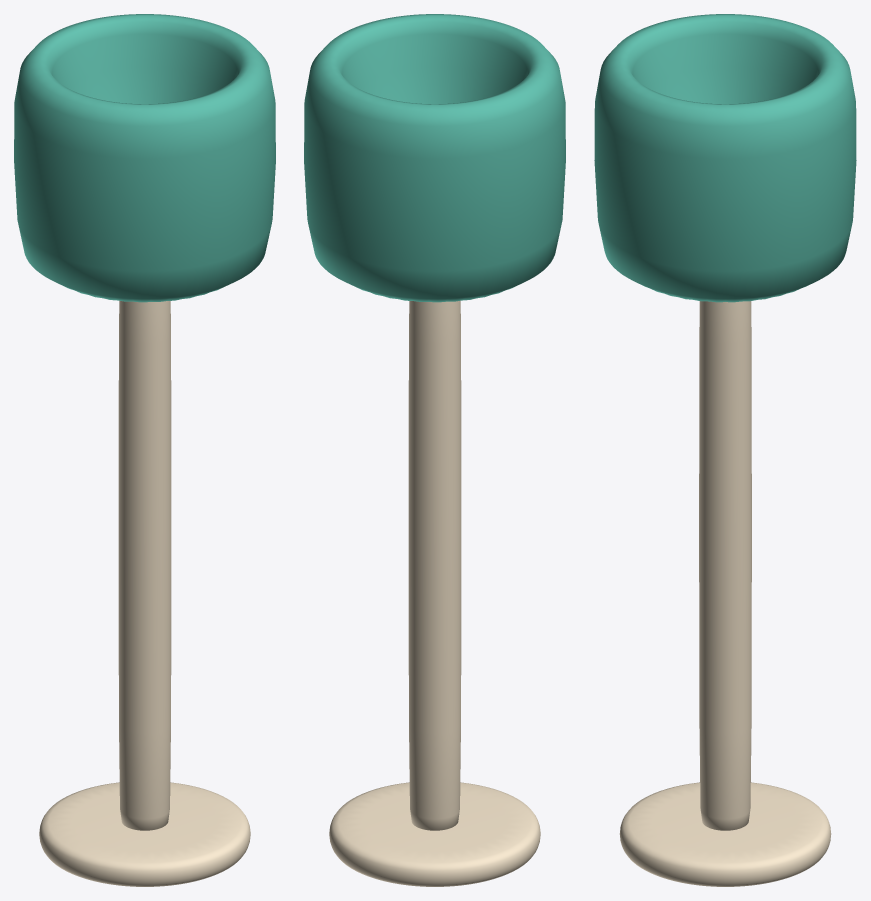
Rendered from floor_lamp_a.glb.
The picture shows the model from 3 angles, left to right: view 1: azimuth 30°, elevation 25°; view 2: azimuth 150°, elevation 25°; view 3: azimuth 270°, elevation 25°; orthographic projection.
Parts seen in each view (by area): view 1: body; view 2: body; view 3: body.
Part boxes in pixels (x1,y1,x2,y2): body: (14, 14, 275, 886); body: (304, 14, 565, 886); body: (594, 14, 856, 886).
Size of the model in its own units: 0.4461 by 1.48 by 0.4461.
